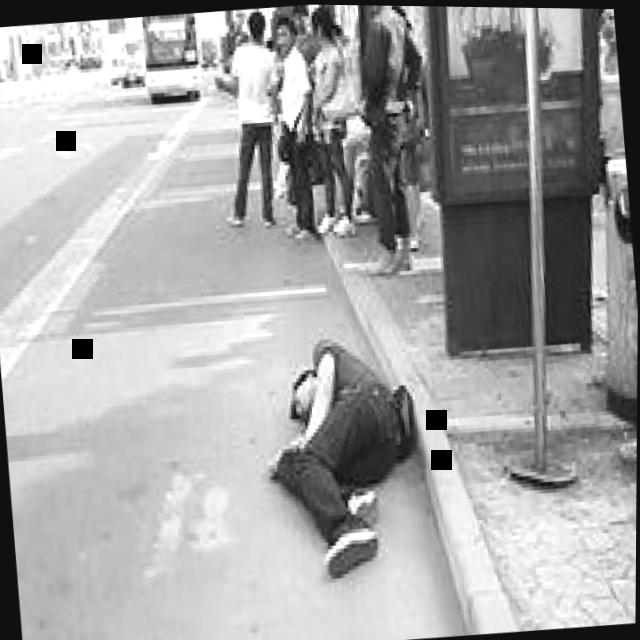Fall-Detected: (252, 306, 443, 577)
